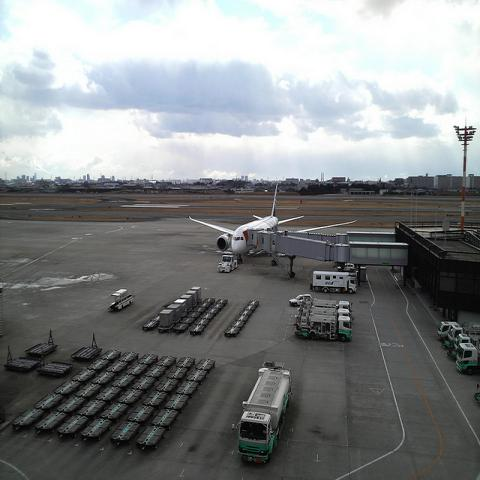car: (108, 288, 134, 310), (437, 322, 458, 341), (218, 254, 237, 273), (290, 294, 314, 306), (338, 263, 354, 272)
truck: (231, 360, 293, 464), (294, 314, 352, 341), (312, 271, 358, 293), (450, 333, 479, 361), (456, 343, 479, 376), (448, 321, 479, 344), (312, 307, 354, 323), (313, 296, 352, 313), (218, 254, 237, 272)
